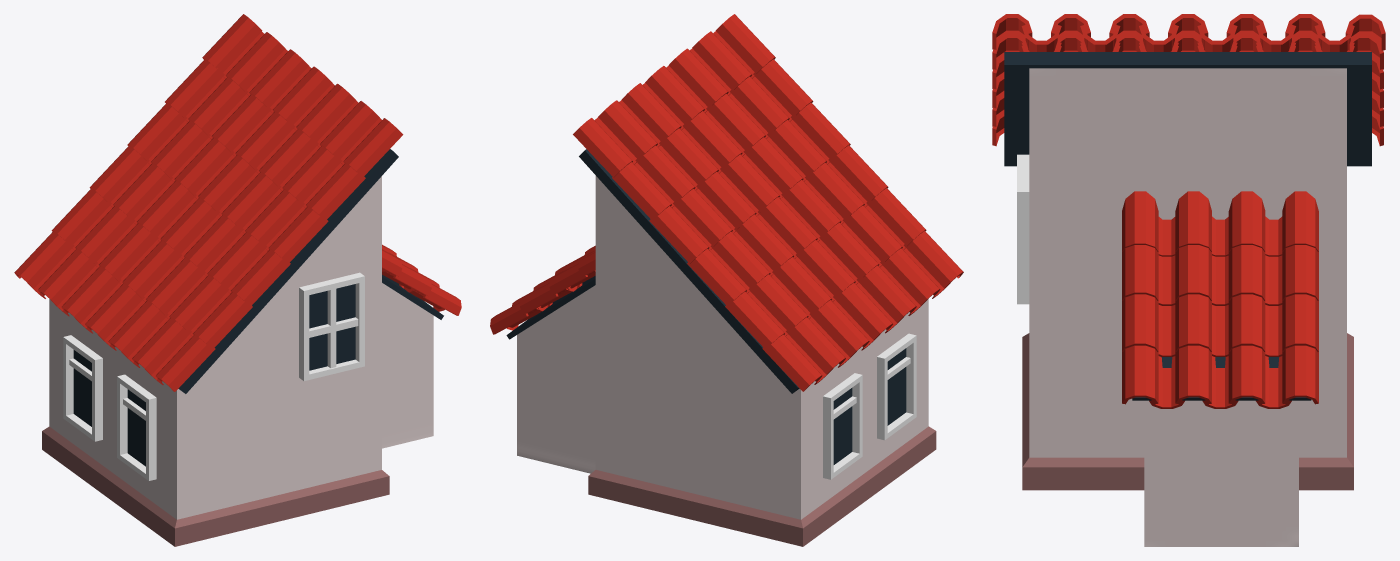
Rendered from Semi_House03.fbx.
The picture shows the model from 3 angles, left to right: view 1: azimuth 30°, elevation 25°; view 2: azimuth 150°, elevation 25°; view 3: azimuth 270°, elevation 25°; orthographic projection. The views are drawn at different scales.
Visible parts, largest first — view 1: Semi_House03; view 2: Semi_House03; view 3: Semi_House03.
Part boxes in pixels (box(x1,y1,x2,y2)): Semi_House03: box(14, 14, 461, 546); Semi_House03: box(490, 14, 963, 546); Semi_House03: box(992, 14, 1385, 546).
Size of the model in its own units: 111 by 86.67 by 115.
